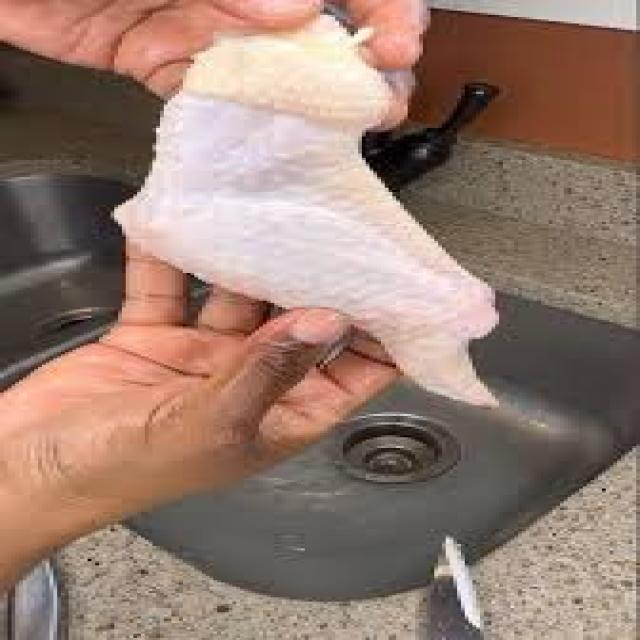wing: (150, 21, 561, 428)
